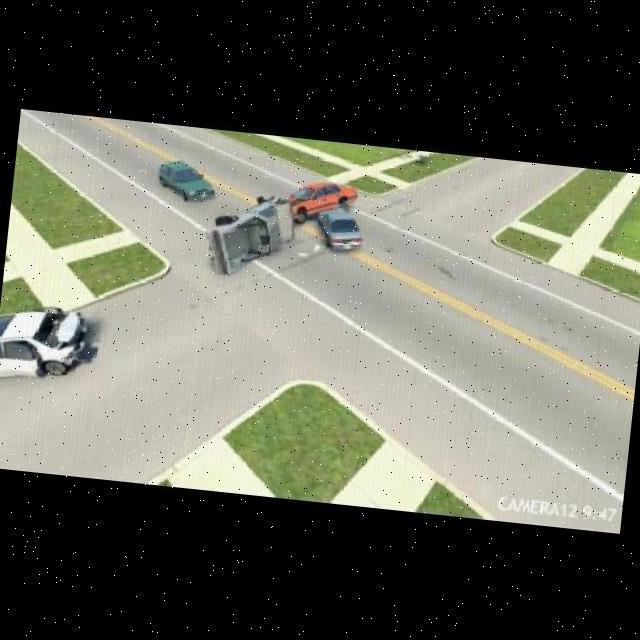accident: (199, 156, 368, 280)
